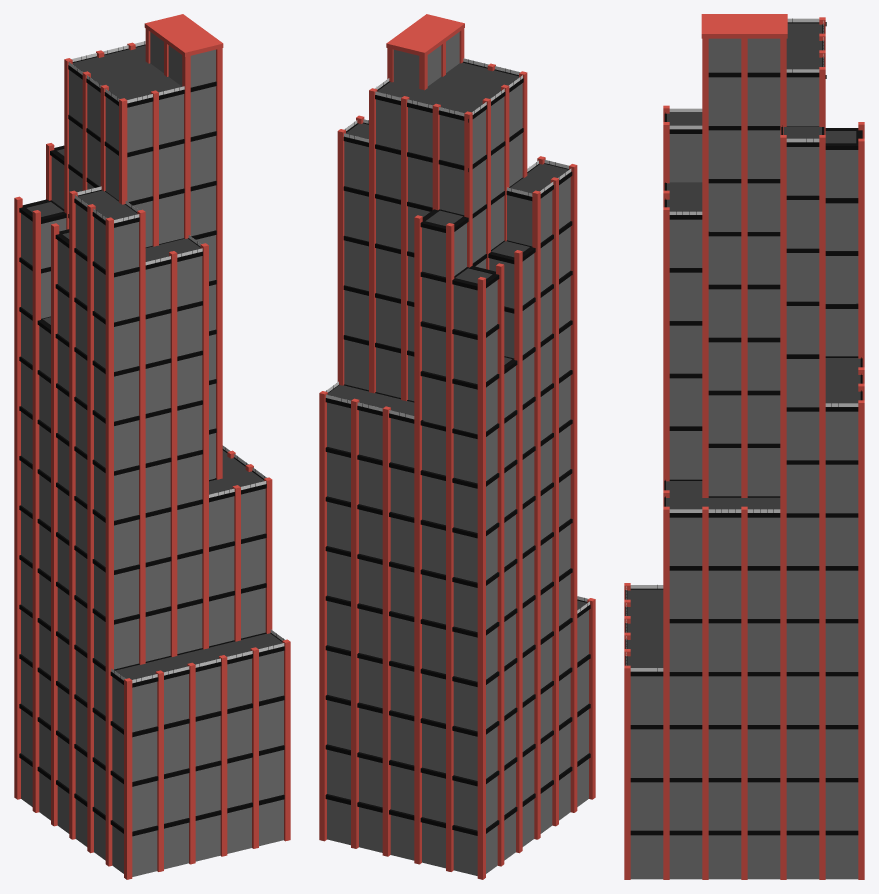
Rendered from Skyscraper_4.fbx.
The picture shows the model from 3 angles, left to right: view 1: azimuth 30°, elevation 25°; view 2: azimuth 150°, elevation 25°; view 3: azimuth 270°, elevation 25°; orthographic projection. The views are drawn at different scales.
Parts seen in each view (by area): view 1: Cube.275, Plane.226, Plane.225, Plane.222, Cube.276, Plane.212, Cube.279, Plane.213, Plane.211, Plane.209, Plane.227, Plane.210 (+18 smaller); view 2: Cube.275, Plane.199, Plane.200, Plane.155, Plane.198, Plane.197, Cube.277, Plane.212, Plane.213, Plane.211, Plane.202, Cube.276 (+16 smaller); view 3: Cube.275, Plane.233, Plane.232, Plane.238, Plane.239, Plane.234, Plane.235, Plane.236, Cube.276, Plane.231, Cube.308, Plane.219 (+5 smaller).
Part boxes in pixels (x1,y1,x2,y2): Cube.275: (14,28,290,879); Plane.226: (114,222,138,669); Plane.225: (145,263,170,661); Plane.222: (177,256,202,653); Cube.276: (27,45,282,679); Plane.212: (75,204,87,846); Cube.279: (114,217,284,836); Plane.213: (94,217,105,860); Plane.211: (57,240,69,833); Plane.209: (21,213,32,806); Plane.227: (190,49,215,479); Plane.210: (39,326,50,820); Cube.275: (319,28,595,879); Plane.199: (422,227,445,868); Plane.200: (453,284,477,875); Plane.155: (390,418,414,860); Plane.198: (327,402,350,845); Plane.197: (359,410,382,852); Cube.277: (325,221,477,835); Plane.212: (540,190,552,833); Plane.213: (559,177,570,820); Plane.211: (522,253,534,846); Plane.202: (376,99,400,397); Cube.276: (327,62,586,610); Cube.275: (624,17,864,879); Plane.233: (786,147,819,879); Plane.232: (825,411,858,879); Plane.238: (747,38,780,496); Plane.239: (708,38,741,496); Plane.234: (747,517,780,879); Plane.235: (708,517,741,879); Plane.236: (669,517,702,879); Cube.276: (627,23,860,667); Plane.231: (669,219,702,479); Cube.308: (630,248,858,835); Plane.219: (825,150,858,356).
Size of the model in its own units: 6204 by 28188 by 7401.
